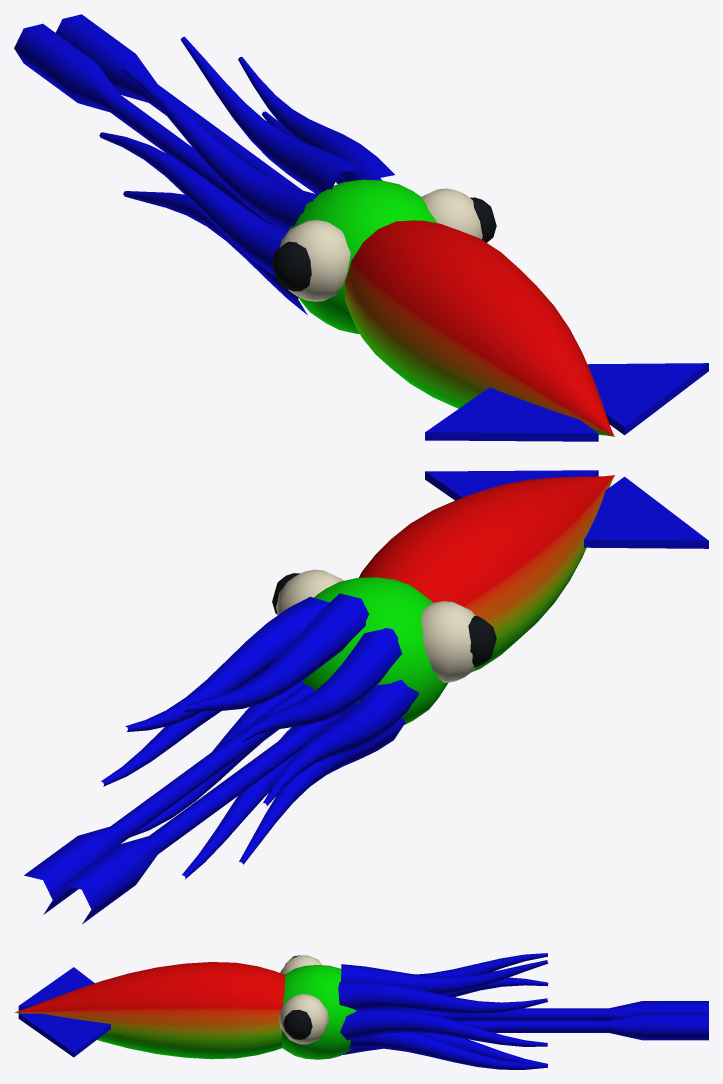
Rendered from fish_squid.glb.
3 renders of one model, top to bottom at view 1: azimuth 30°, elevation 25°; view 2: azimuth 150°, elevation 25°; view 3: azimuth 270°, elevation 25°, orthographic. The views are drawn at different scales.
Parts seen in each view (by area): view 1: Body, Eye; view 2: Body, Eye; view 3: Body, Eye.
Boxes of the visible parts, x1,y1,x2,y2 form: Body: (14,14,708,441); Eye: (272,188,496,301); Body: (24,470,708,924); Eye: (272,569,496,682); Body: (15,953,708,1069); Eye: (278,955,328,1044).
Size of the model in its own units: 0.44 by 0.2559 by 1.51.
